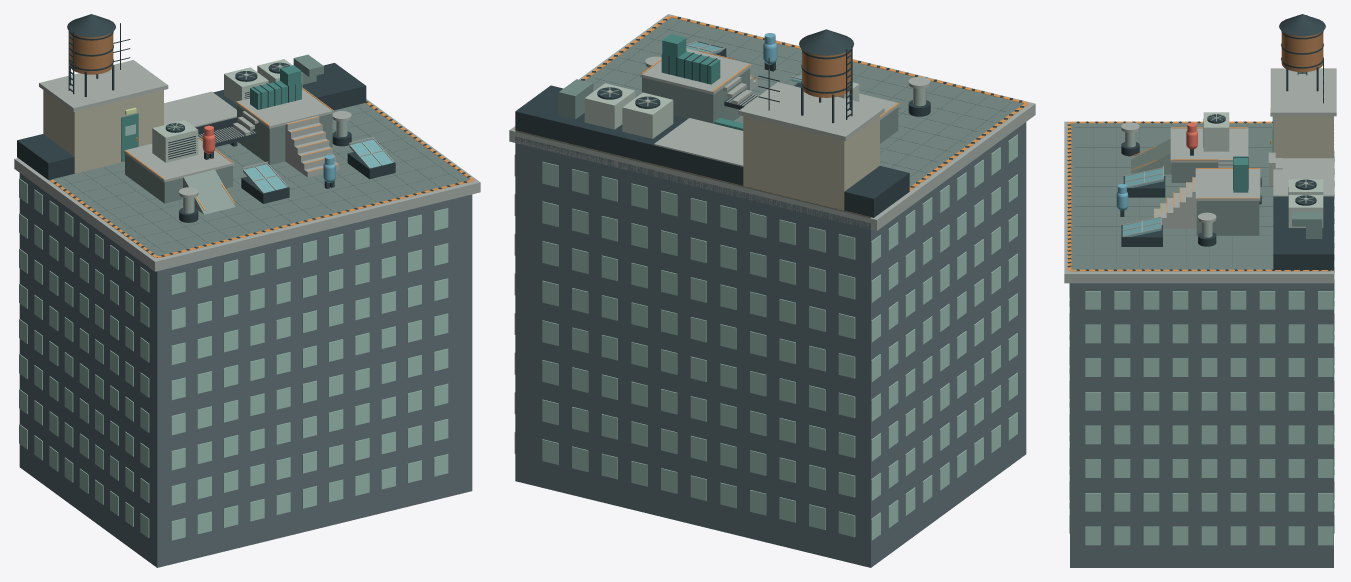
File: rooftop.glb
3 views of the same model, side by side, from view 1: azimuth 30°, elevation 25°; view 2: azimuth 150°, elevation 25°; view 3: azimuth 270°, elevation 25° (orthographic). The views are drawn at different scales.
Parts seen in each view (by area): view 1: Tower facade, Roof membrane, Oversailing roof slab, Service penthouse, Penthouse roof coping, West roof terrace coping, West rear roof shoulder, Rear plinth top, East mechanical terrace, East mechanical terrace coping, West roof terrace, Wood water tank (+10 smaller); view 2: Tower facade, Roof membrane, Service penthouse, Oversailing roof slab, Penthouse roof coping, HVAC housing (×2), Raised service deck, Rear plinth top, East mechanical terrace, West rear roof shoulder, Wood water tank, Connecting rear service plinth (+6 smaller); view 3: Tower facade, Roof membrane, Oversailing roof slab, Penthouse roof coping, Service penthouse, East mechanical terrace, West roof terrace coping, East mechanical terrace coping, East rear roof shoulder, Rear plinth top, Flush edge warning (×3), Raised service deck (+9 smaller).
Part boxes in pixels (x1,y1,x2,y2): Tower facade: (19, 173, 472, 567); Roof membrane: (52, 103, 469, 257); Oversailing roof slab: (14, 99, 480, 271); Service penthouse: (43, 90, 163, 173); Penthouse roof coping: (39, 60, 168, 111); West roof terrace coping: (123, 138, 234, 182); West rear roof shoulder: (17, 134, 74, 179); Rear plinth top: (164, 91, 236, 127); East mechanical terrace: (237, 105, 332, 164); East mechanical terrace coping: (235, 89, 333, 128); West roof terrace: (125, 154, 232, 203); Wood water tank: (69, 33, 113, 74); Tower facade: (515, 122, 1026, 567); Roof membrane: (515, 17, 1023, 218); Service penthouse: (743, 116, 879, 210); Oversailing roof slab: (509, 14, 1035, 230); Penthouse roof coping: (738, 82, 884, 140); HVAC housing (×2): (584, 83, 673, 138); Raised service deck: (547, 111, 687, 163); Rear plinth top: (654, 118, 743, 166); East mechanical terrace: (642, 68, 749, 123); West rear roof shoulder: (844, 166, 909, 217); Wood water tank: (802, 51, 851, 97); Connecting rear service plinth: (654, 145, 743, 185); Tower facade: (1070, 283, 1333, 567); Roof membrane: (1071, 123, 1333, 270); Oversailing roof slab: (1064, 121, 1333, 283); Penthouse roof coping: (1270, 68, 1336, 116); Service penthouse: (1273, 116, 1333, 158); East mechanical terrace: (1196, 201, 1259, 235); West roof terrace coping: (1170, 127, 1248, 162); East mechanical terrace coping: (1195, 168, 1260, 200); East rear roof shoulder: (1273, 241, 1333, 270); Rear plinth top: (1273, 158, 1333, 196); Flush edge warning (×3): (1067, 121, 1331, 271); Raised service deck: (1273, 196, 1333, 240).
Size of the model in its own units: 22.32 by 29.58 by 16.88.
